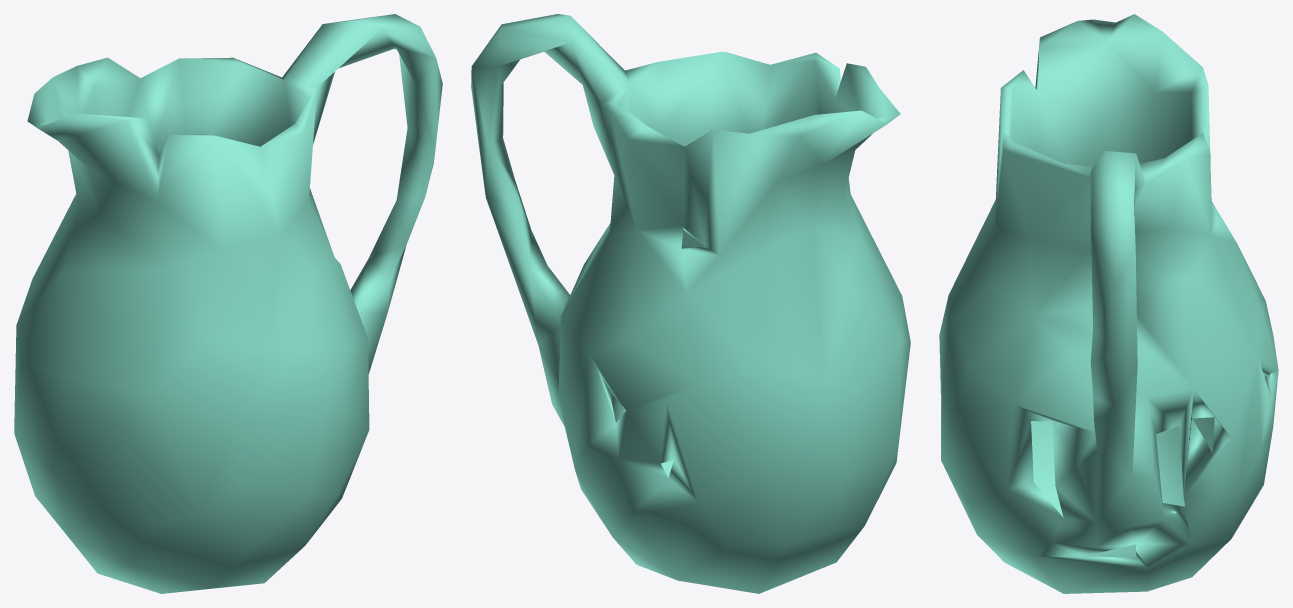
The picture shows the model from 3 angles, left to right: view 1: azimuth 30°, elevation 25°; view 2: azimuth 150°, elevation 25°; view 3: azimuth 270°, elevation 25°; orthographic projection. The views are drawn at different scales.
Parts seen in each view (by area): view 1: 곡선 손잡이 피처; view 2: 곡선 손잡이 피처; view 3: 곡선 손잡이 피처.
Boxes of the visible parts, box(x1,y1,x2,y2) form: 곡선 손잡이 피처: box(14, 14, 442, 593); 곡선 손잡이 피처: box(471, 14, 910, 593); 곡선 손잡이 피처: box(939, 14, 1278, 593).
Bounding box in the file's own units: 0.3396 × 0.3821 × 0.2442.
Materials: 1 (1 with a texture image).
